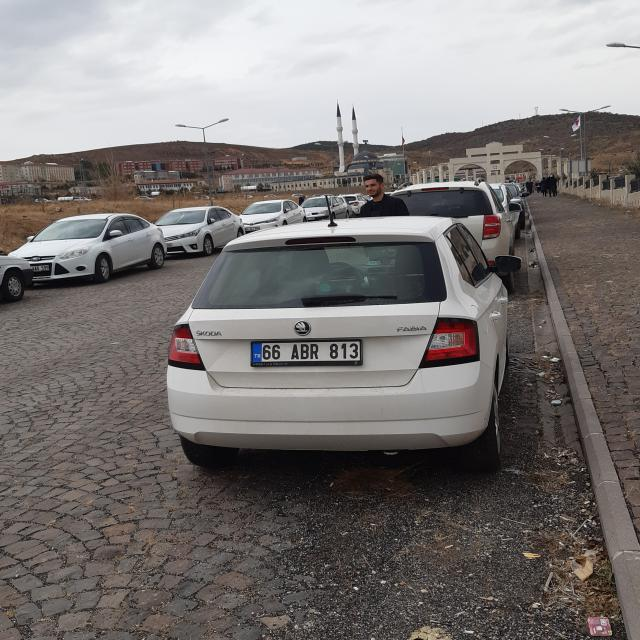plate: (252, 342, 362, 361)
